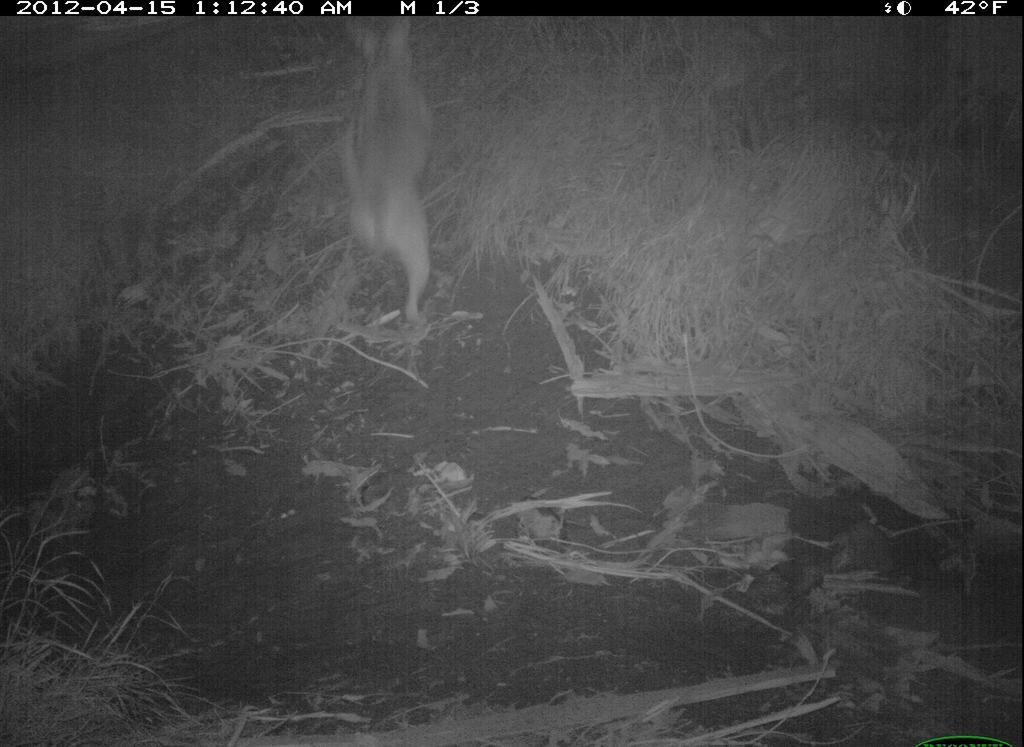dog: (326, 16, 468, 337)
